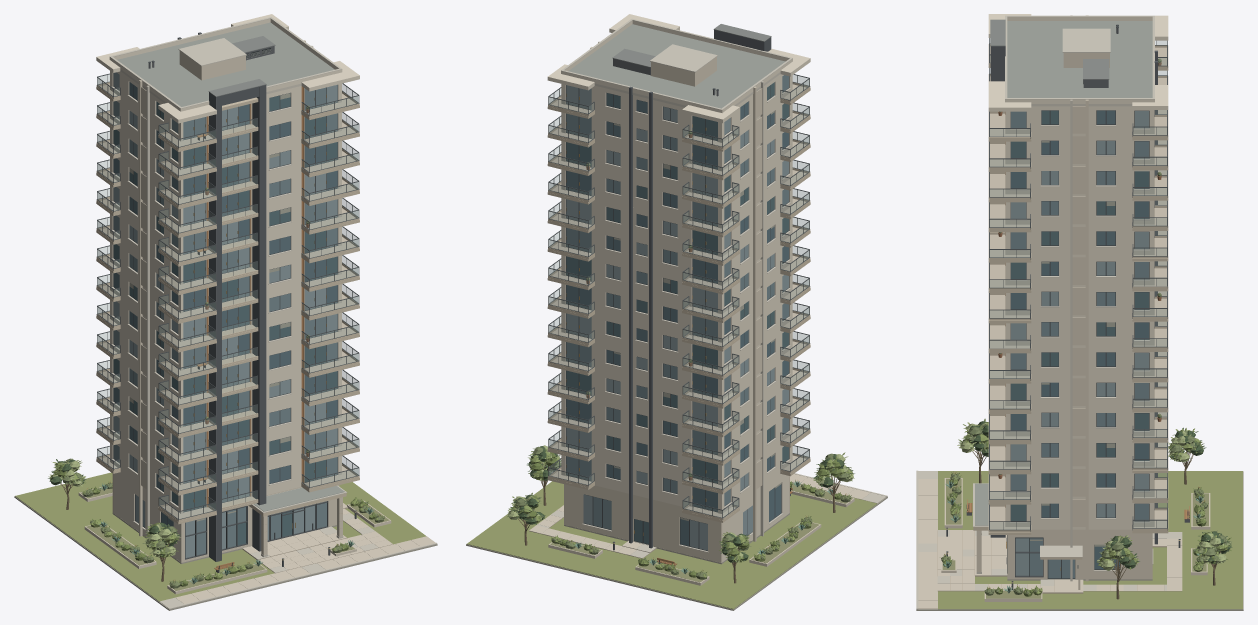
Rendered from residencial_3_3.fbx.
The picture shows the model from 3 angles, left to right: view 1: azimuth 30°, elevation 25°; view 2: azimuth 150°, elevation 25°; view 3: azimuth 270°, elevation 25°; orthographic projection. The views are drawn at different scales.
Visible parts, largest first — view 1: Marco vertical de basalto, Cubierta y pretiles, Parcela 30 x 30, Senderos y explanadas, Cristal del vestibulo, Cuarto de ascensores, Muros del vestibulo, Ventanales.010, Ventanales.003, Ventanales.006, Ventanales.012, Ventanales.007 (+73 smaller); view 2: Parcela 30 x 30, Cubierta y pretiles, Marco vertical de basalto, Muros del vestibulo, Muros.010, Muros.004, Muros.012, Muros.002, Muros, Muros.008, Muros.007, Muros.006 (+72 smaller); view 3: Parcela 30 x 30, Cubierta y pretiles, Senderos y explanadas, Marco vertical de basalto, Muros del vestibulo, Muros.008, Muros.012, Muros.011, Muros.003, Muros.007, Muros.001, Muros.009 (+76 smaller).
Boxes of the visible parts, x1,y1,x2,y2 form: Marco vertical de basalto: (139,32,313,561); Cubierta y pretiles: (96,14,359,123); Parcela 30 x 30: (14,472,437,610); Senderos y explanadas: (159,503,435,607); Cristal del vestibulo: (135,494,326,557); Cuarto de ascensores: (148,36,275,80); Muros del vestibulo: (112,472,339,562); Ventanales.010: (113,158,337,225); Ventanales.003: (113,358,337,425); Ventanales.006: (113,273,337,340); Ventanales.012: (113,101,337,168); Ventanales.007: (113,244,337,311); Parcela 30 x 30: (466,481,887,610); Cubierta y pretiles: (547,14,810,123); Marco vertical de basalto: (590,24,771,548); Muros del vestibulo: (564,474,789,562); Muros.010: (561,158,792,228); Muros.004: (561,329,792,399); Muros.012: (561,101,792,171); Muros.002: (561,386,792,456); Muros: (561,443,792,513); Muros.008: (561,215,792,285); Muros.007: (561,244,792,313); Muros.006: (561,272,792,342); Parcela 30 x 30: (916,471,1243,610); Cubierta y pretiles: (988,14,1168,111); Senderos y explanadas: (918,471,1182,608); Marco vertical de basalto: (990,15,1157,581); Muros del vestibulo: (1007,529,1152,579); Muros.008: (1005,255,1154,285); Muros.012: (1005,134,1154,164); Muros.011: (1005,164,1154,194); Muros.003: (1005,406,1154,436); Muros.007: (1005,285,1154,315); Muros.001: (1005,467,1154,497); Muros.009: (1005,225,1154,255).
Size of the model in its own units: 30 by 50.22 by 30.
